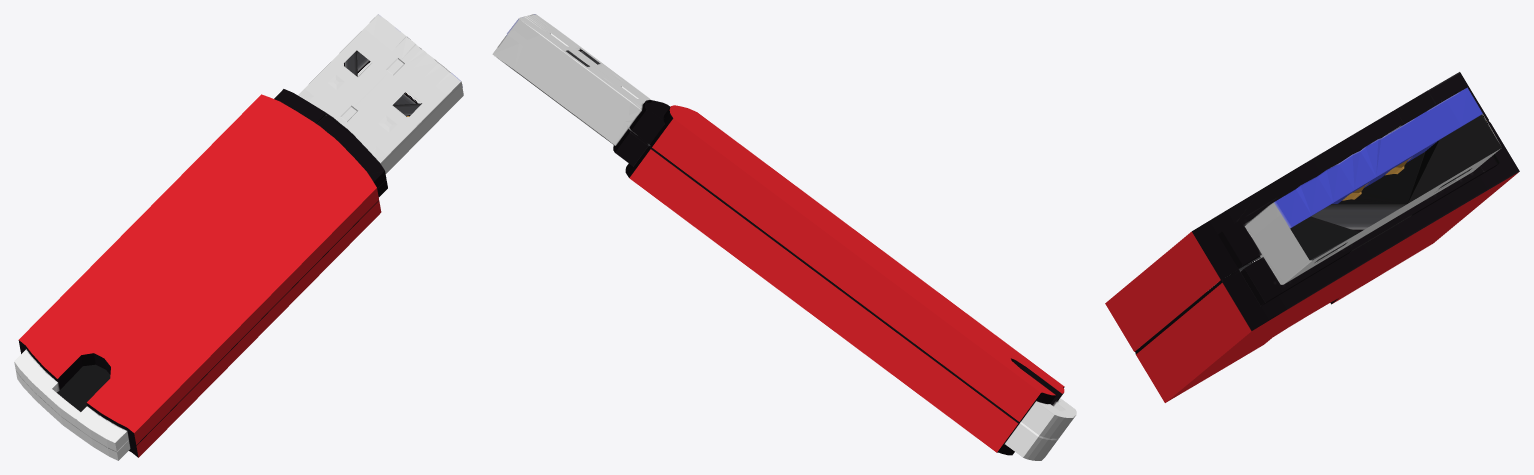
The model's file is USB Stick.obj.
3 renders of one model, left to right at view 1: azimuth 30°, elevation 25°; view 2: azimuth 150°, elevation 25°; view 3: azimuth 270°, elevation 25°, orthographic. The views are drawn at different scales.
Parts seen in each view (by area): view 1: Object.1; view 2: Object.1; view 3: Object.1.
Part boxes in pixels (bbox=[...]): Object.1: bbox=[14, 14, 463, 460]; Object.1: bbox=[492, 14, 1076, 460]; Object.1: bbox=[1105, 72, 1519, 402].
Size of the model in its own units: 794 by 541 by 327.
Materials: 1 (1 with a texture image).
